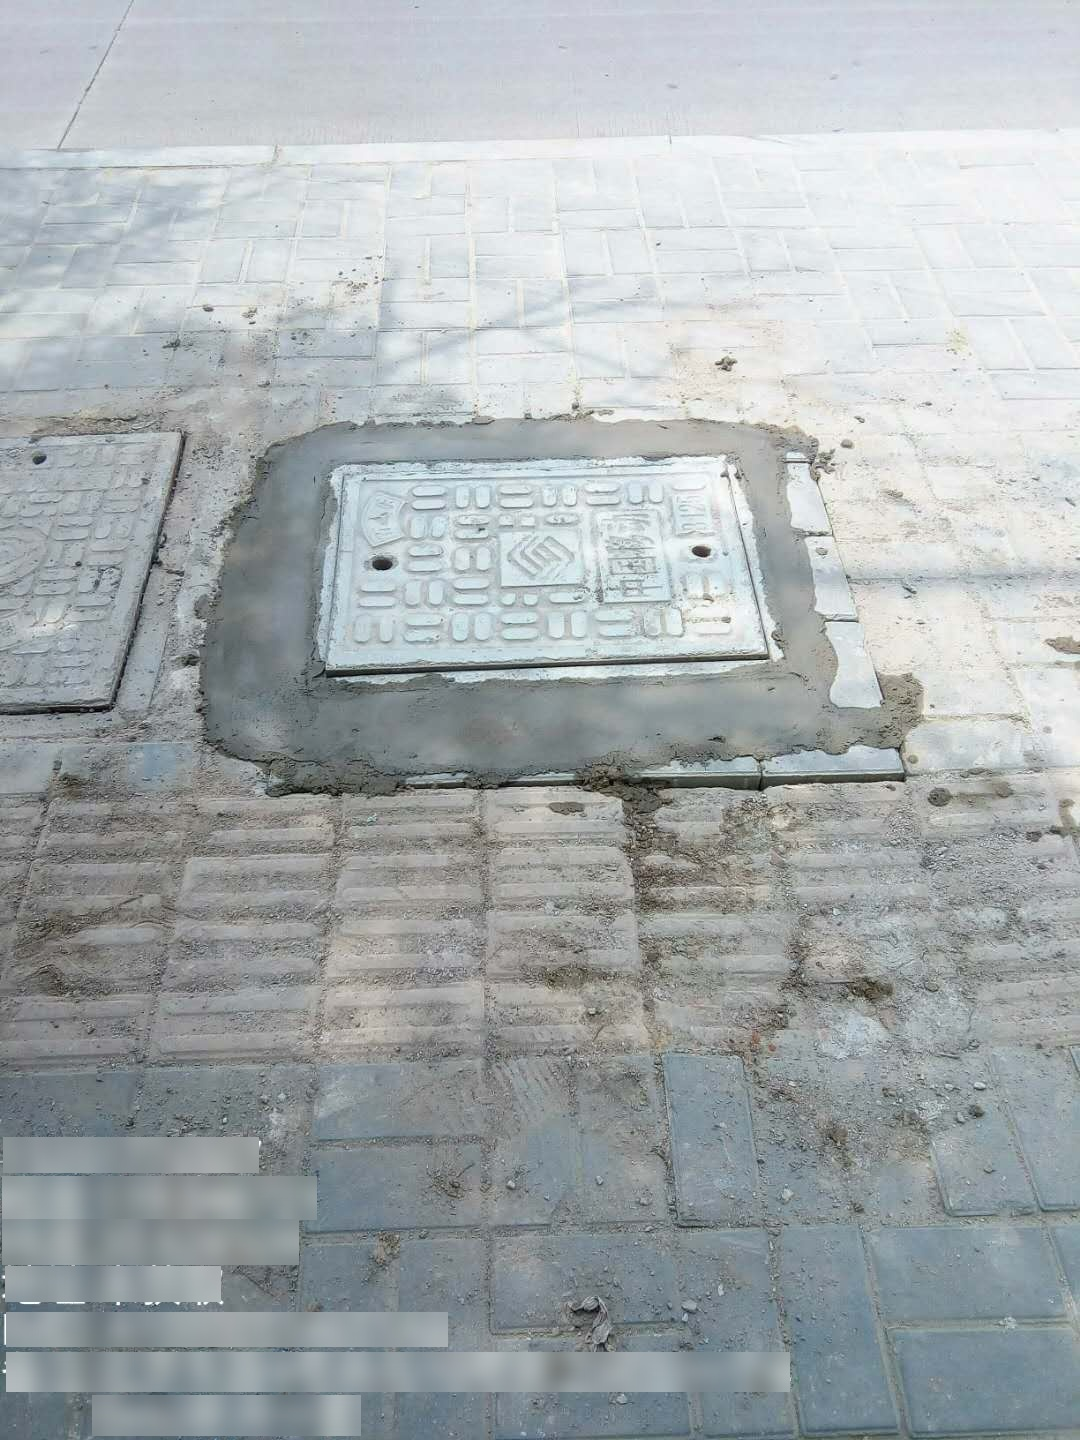well: (305, 449, 788, 688), (0, 418, 204, 729)
